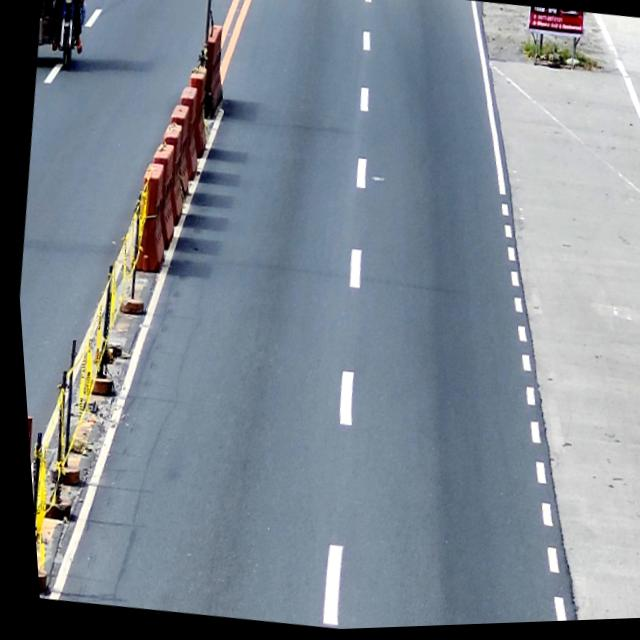Tricycle: (32, 0, 92, 74)
